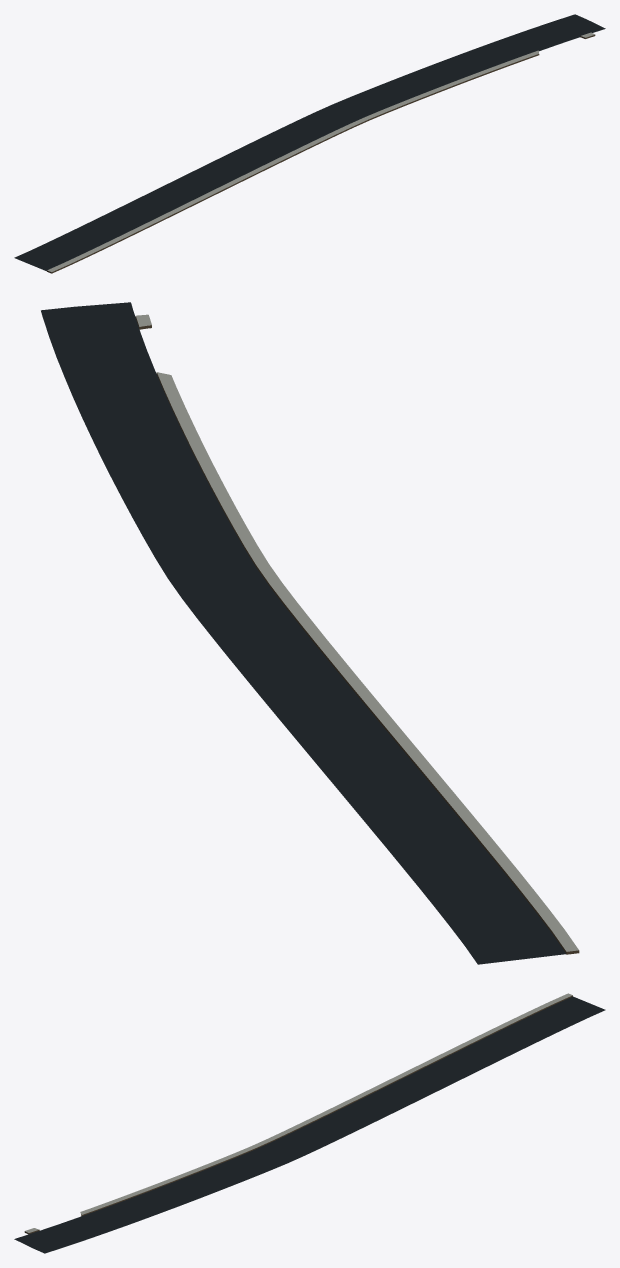
The model's file is SM_Mapa_Road_2.fbx.
The picture shows the model from 3 angles, top to bottom: view 1: azimuth 90°, elevation 25°; view 2: azimuth 150°, elevation 25°; view 3: azimuth 270°, elevation 25°; orthographic projection. The views are drawn at different scales.
Visible parts, largest first — view 1: SM_Mapa_Road_2; view 2: SM_Mapa_Road_2; view 3: SM_Mapa_Road_2.
Part boxes in pixels (bbox=[...]): SM_Mapa_Road_2: bbox=[14, 14, 605, 273]; SM_Mapa_Road_2: bbox=[41, 302, 579, 964]; SM_Mapa_Road_2: bbox=[14, 993, 605, 1253].
Size of the model in its own units: 79.17 by 76.43 by 0.2.
